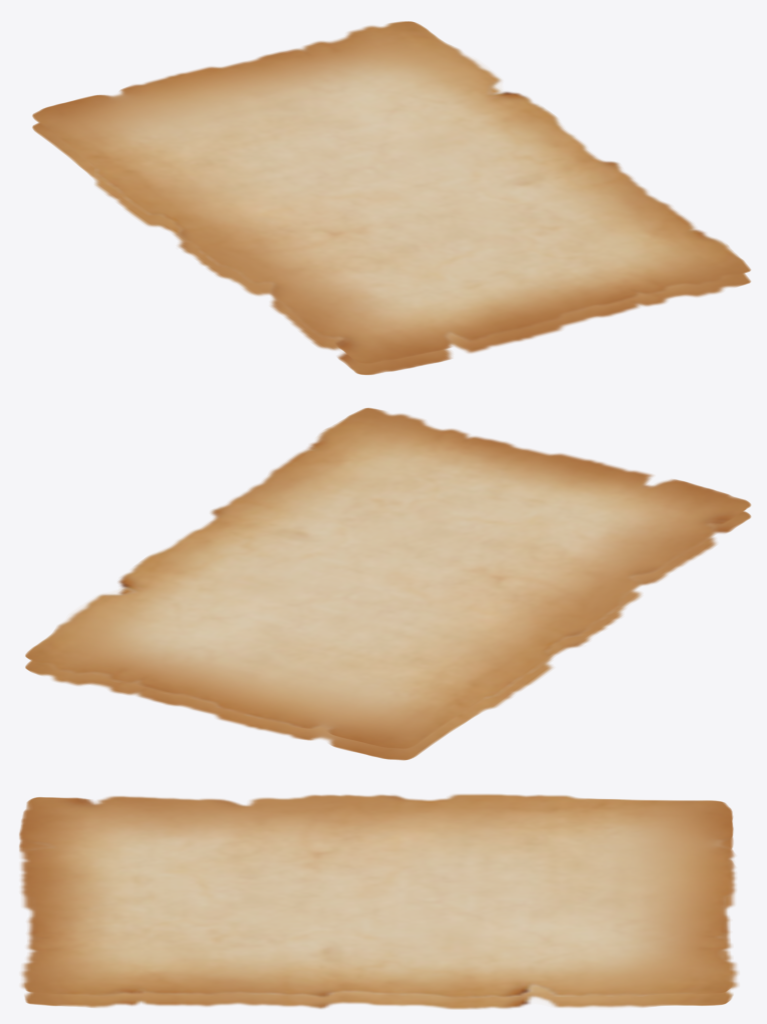
File: CartaCERTA.glb
3 views of the same model, one above another, from view 1: azimuth 30°, elevation 25°; view 2: azimuth 150°, elevation 25°; view 3: azimuth 270°, elevation 25° (orthographic). The views are drawn at different scales.
Visible parts, largest first — view 1: Plane, Plane.002; view 2: Plane, Plane.002, Plane.001; view 3: Plane, Plane.002, Plane.001.
Boxes of the visible parts, box(x1,y1,x2,y2) form: Plane: box(32, 21, 750, 363); Plane.002: box(32, 86, 750, 374); Plane: box(25, 408, 750, 748); Plane.002: box(25, 485, 750, 760); Plane.001: box(84, 431, 745, 746); Plane: box(19, 794, 738, 997); Plane.002: box(19, 826, 738, 1009); Plane.001: box(37, 798, 732, 997).
Bounding box in the file's own units: 0.12 × 0.00324 × 0.1827.
Materials: 2 (2 with a texture image).
